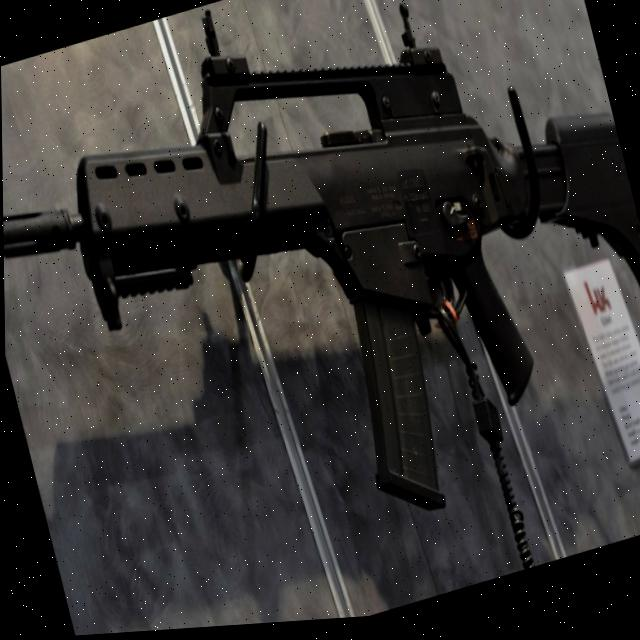firearm: (0, 0, 640, 623)
